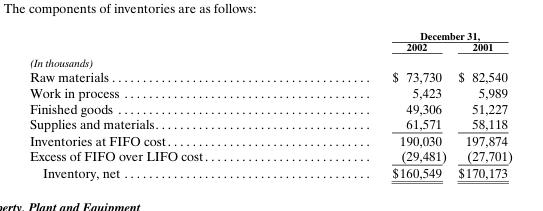table: (28, 29, 511, 180)
table column: (28, 29, 299, 180), (299, 29, 451, 180), (451, 29, 511, 180)
table column header: (28, 29, 511, 54)
table projected row header: (28, 54, 511, 68)
table row: (28, 147, 511, 164), (28, 68, 511, 84), (28, 84, 511, 100), (28, 115, 511, 131), (28, 131, 511, 147), (28, 164, 511, 180), (28, 100, 511, 115), (28, 40, 511, 54), (28, 54, 511, 68), (28, 29, 511, 40)
table spanning cell: (299, 29, 511, 40)
